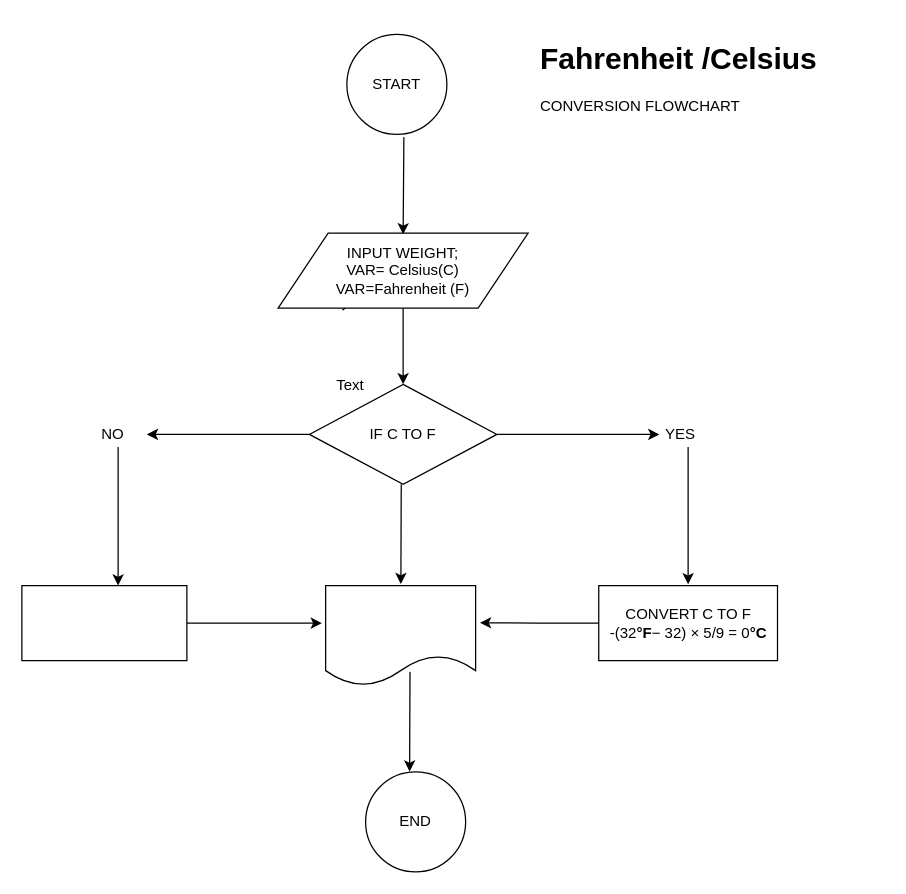
This 906x894 diagram has some shape labels left out. Here are the shapes that lost their labels. From the top down, the centre of each, then its label:
At (104,622): "CONVERT F TO C - (32 °F − 32) × 5/9".
At (400,635): "PRINT CONVERSION RESULT".
